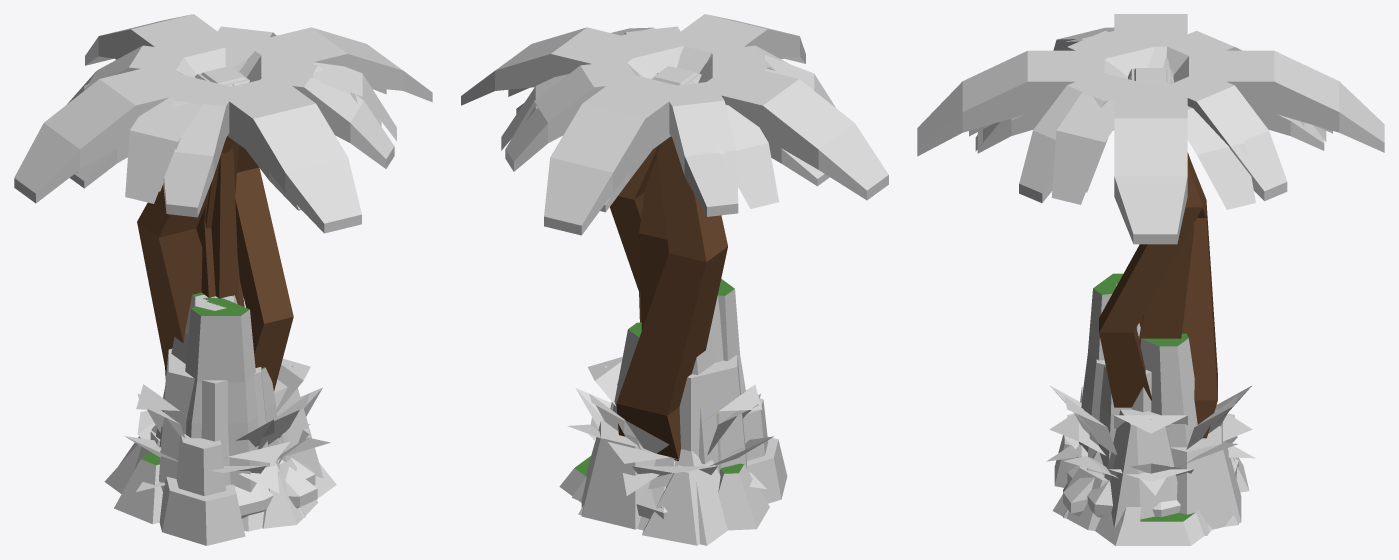
Rendered from oceano.glb.
3 views of the same model, side by side, from view 1: azimuth 30°, elevation 25°; view 2: azimuth 150°, elevation 25°; view 3: azimuth 270°, elevation 25° (orthographic).
Parts seen in each view (by area): view 1: tree_palmShort, tree_palmBend, stone_tallB, tree_palmDetailedTall, rock_tallA, tree_palm, tree_palmTall, plant_bush, plant_bushLarge, rock_smallB, rock_largeC, plant_bushSmall (+3 smaller); view 2: tree_palmShort, stone_tallB, tree_palmDetailedTall, tree_palmBend, tree_palmTall, rock_tallA, tree_palm, plant_bush, plant_bushLarge, rock_tallC, rock_smallB, plant_bushSmall (+2 smaller); view 3: tree_palmShort, tree_palmBend, tree_palmDetailedTall, stone_tallB, tree_palmTall, rock_tallA, rock_tallC, tree_palm, plant_bushLarge, plant_bush, rock_largeC, rock_largeA (+3 smaller).
Part boxes in pixels (left/top/right/bottom): tree_palmShort: left=14, top=14, right=432, bottom=378; tree_palmBend: left=78, top=27, right=396, bottom=390; stone_tallB: left=118, top=294, right=323, bottom=545; tree_palmDetailedTall: left=67, top=26, right=394, bottom=228; rock_tallA: left=114, top=298, right=336, bottom=524; tree_palm: left=159, top=31, right=381, bottom=304; tree_palmTall: left=76, top=25, right=386, bottom=306; plant_bush: left=136, top=358, right=310, bottom=463; plant_bushLarge: left=137, top=393, right=309, bottom=473; rock_smallB: left=104, top=425, right=305, bottom=531; rock_largeC: left=229, top=458, right=315, bottom=518; plant_bushSmall: left=124, top=387, right=322, bottom=463; tree_palmShort: left=461, top=14, right=888, bottom=460; stone_tallB: left=581, top=295, right=787, bottom=545; tree_palmDetailedTall: left=505, top=26, right=829, bottom=216; tree_palmBend: left=501, top=27, right=835, bottom=322; tree_palmTall: left=508, top=25, right=770, bottom=330; rock_tallA: left=559, top=279, right=769, bottom=530; tree_palm: left=612, top=31, right=756, bottom=101; plant_bush: left=588, top=357, right=762, bottom=463; plant_bushLarge: left=589, top=393, right=760, bottom=476; rock_tallC: left=612, top=322, right=714, bottom=463; rock_smallB: left=572, top=449, right=727, bottom=545; plant_bushSmall: left=575, top=388, right=773, bottom=466; tree_palmShort: left=917, top=14, right=1384, bottom=438; tree_palmBend: left=975, top=27, right=1326, bottom=407; tree_palmDetailedTall: left=977, top=30, right=1324, bottom=202; stone_tallB: left=1052, top=284, right=1249, bottom=530; tree_palmTall: left=969, top=25, right=1332, bottom=345; rock_tallA: left=1076, top=273, right=1212, bottom=545; rock_tallC: left=1136, top=323, right=1197, bottom=447; tree_palm: left=1063, top=30, right=1304, bottom=327; plant_bushLarge: left=1064, top=396, right=1237, bottom=481; plant_bush: left=1049, top=413, right=1252, bottom=455; rock_largeC: left=1067, top=457, right=1234, bottom=517; rock_largeA: left=1063, top=458, right=1238, bottom=516.
Size of the model in its own units: 1.86 by 1.9 by 1.86.
